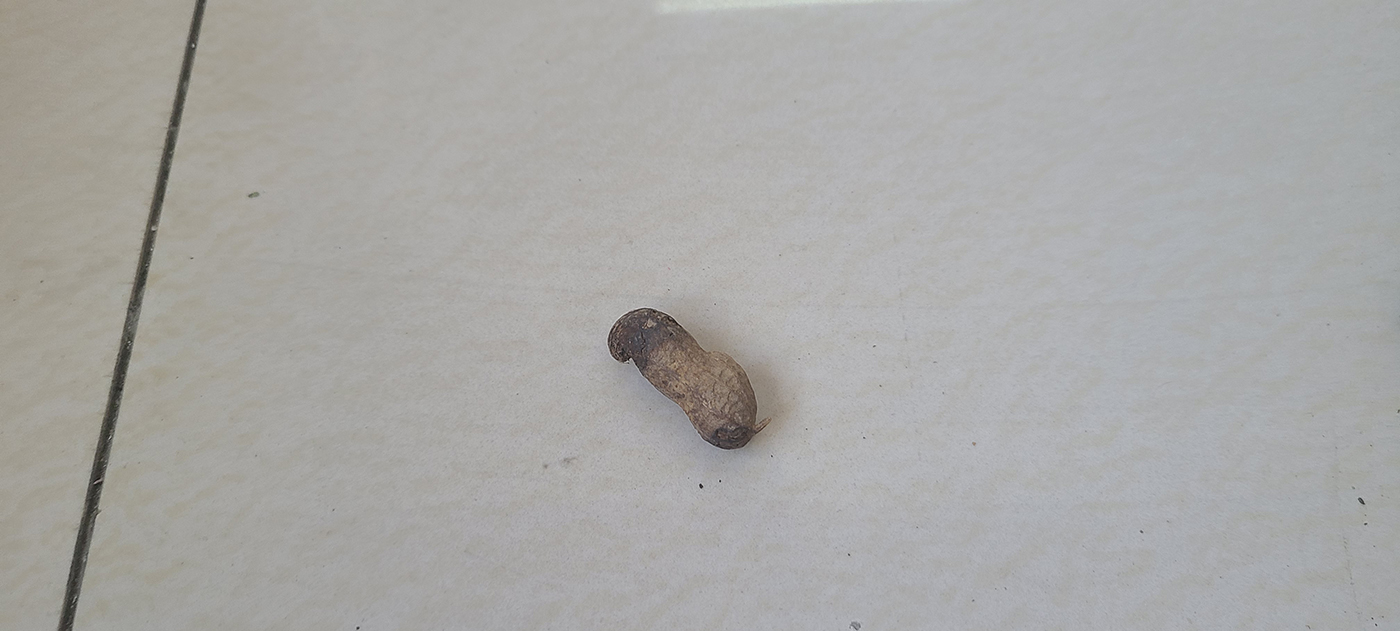l: (605, 307, 761, 452)
